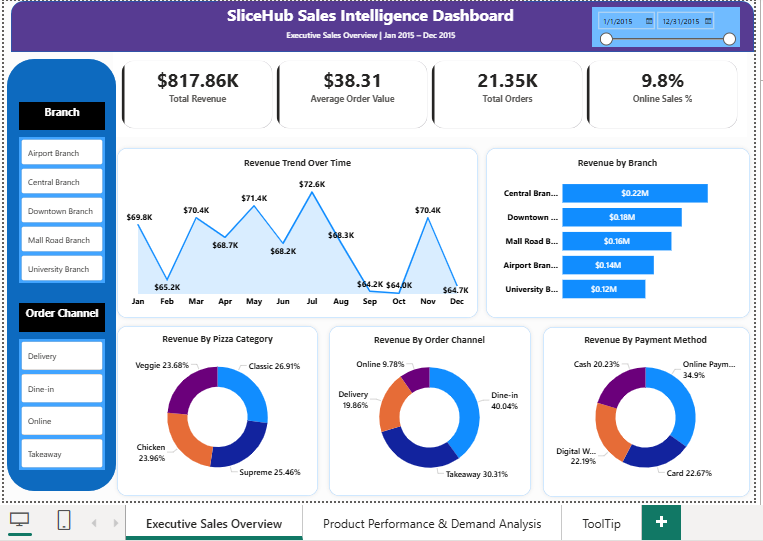

Layout of this report page (visuals, bound fields, positions):
{"tool":"powerbi","page":{"name":"Executive Sales Overview","canvas":[1500,1000],"ordinal":0},"visuals":[{"type":"shape","box":[14,0,1486,102],"z":0},{"type":"cardVisual","fields":{"Data":["_usermeasures.total revenue","_usermeasures.Average Order Value","_usermeasures.total orders","_usermeasures.Online Sales %"]},"box":[218,102,1268,170],"z":1000},{"type":"textbox","box":[426,0,614,64],"z":2000},{"type":"textbox","box":[548,52,372,36],"z":3000},{"type":"shape","box":[218,286,738,356],"z":4000},{"type":"shape","box":[956,286,544,356],"z":5000},{"type":"shape","box":[218,642,418,356],"z":6000},{"type":"shape","box":[1070,644,430,356],"z":7000},{"type":"lineChart","title":"Revenue Trend Over Time","fields":{"Y":["_usermeasures.Total Revenue"],"Category":["Table1.Short Month"]},"box":[240,310,694,310],"z":8000},{"type":"barChart","title":"Revenue by Branch","fields":{"Category":["Table1.branch"],"Y":["_usermeasures.Total Revenue"]},"box":[982,310,490,310],"z":9000},{"type":"donutChart","title":"Revenue By Pizza Category","fields":{"Y":["_usermeasures.Total Revenue"],"Category":["Table1.menu_category"]},"box":[240,662,374,316],"z":10000},{"type":"donutChart","title":"Revenue By Order Channel","fields":{"Y":["_usermeasures.Total Revenue"],"Category":["Table1.order_channel"]},"box":[662,664,378,314],"z":11000},{"type":"shape","box":[642,642,420,356],"z":12000},{"type":"donutChart","title":"Revenue By Order Channel","fields":{"Y":["_usermeasures.Total Revenue"],"Category":["Table1.order_channel"]},"box":[662,664,378,314],"z":13000},{"type":"donutChart","title":"Revenue By Payment Method","fields":{"Y":["_usermeasures.Total Revenue"],"Category":["Table1.payment_methord"]},"box":[1094,664,378,314],"z":14000},{"type":"shape","box":[6,116,218,864],"z":15000},{"type":"slicer","fields":{"Values":["Table1.order_date"]},"box":[1176,12,296,80],"z":16000},{"type":"advancedSlicerVisual","fields":{"Values":["Table1.branch"]},"box":[30,272,172,292],"z":17000},{"type":"advancedSlicerVisual","fields":{"Values":["Table1.order_channel"]},"box":[30,676,172,262],"z":18000},{"type":"textbox","box":[30,202,172,56],"z":19000},{"type":"textbox","box":[30,604,172,58],"z":20000}]}

Visuals, with their boxes on the page's 1500x1000 design canvas (x1, y1, x2, y2). These are canvas units, not pixel positions in the 763x541 screenshot, which may show the page scaled, cropped or inside an application window:
shape: left=14, top=0, right=1500, bottom=102
cardVisual - _usermeasures.total revenue x _usermeasures.Average Order Value: left=218, top=102, right=1486, bottom=272
textbox: left=426, top=0, right=1040, bottom=64
textbox: left=548, top=52, right=920, bottom=88
shape: left=218, top=286, right=956, bottom=642
shape: left=956, top=286, right=1500, bottom=642
shape: left=218, top=642, right=636, bottom=998
shape: left=1070, top=644, right=1500, bottom=1000
"Revenue Trend Over Time" lineChart: left=240, top=310, right=934, bottom=620
"Revenue by Branch" barChart: left=982, top=310, right=1472, bottom=620
"Revenue By Pizza Category" donutChart: left=240, top=662, right=614, bottom=978
"Revenue By Order Channel" donutChart: left=662, top=664, right=1040, bottom=978
shape: left=642, top=642, right=1062, bottom=998
"Revenue By Order Channel" donutChart: left=662, top=664, right=1040, bottom=978
"Revenue By Payment Method" donutChart: left=1094, top=664, right=1472, bottom=978
shape: left=6, top=116, right=224, bottom=980
slicer - Table1.order_date: left=1176, top=12, right=1472, bottom=92
advancedSlicerVisual - Table1.branch: left=30, top=272, right=202, bottom=564
advancedSlicerVisual - Table1.order_channel: left=30, top=676, right=202, bottom=938
textbox: left=30, top=202, right=202, bottom=258
textbox: left=30, top=604, right=202, bottom=662
